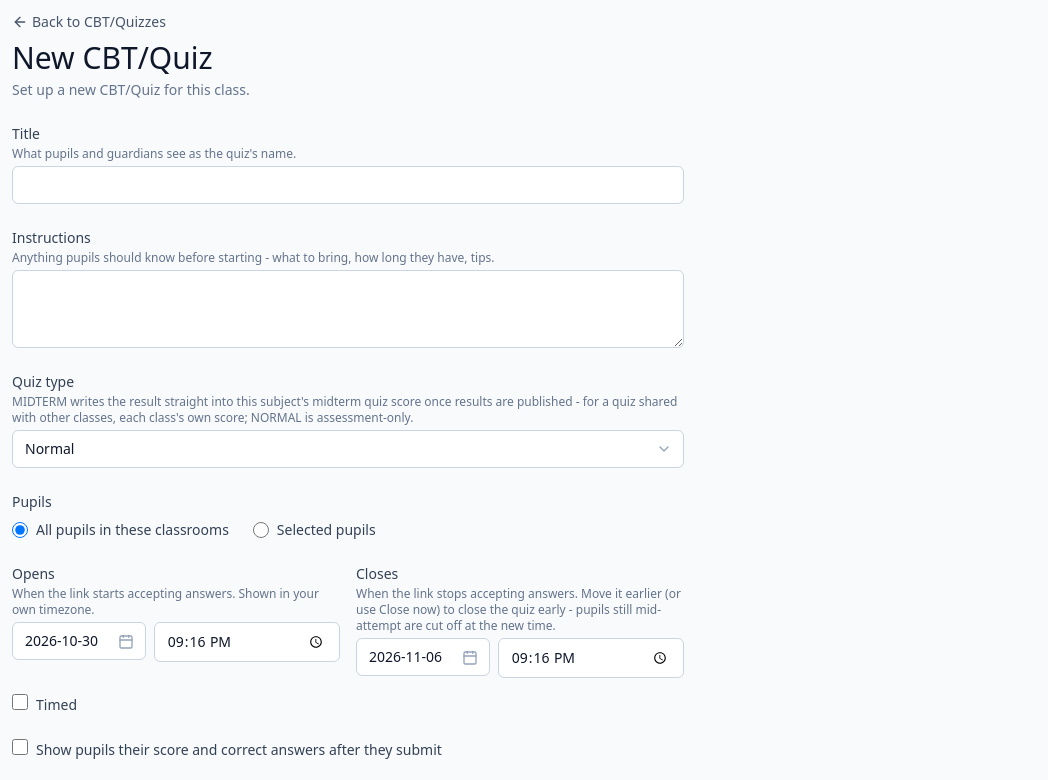
Scenario: TakeHomeQuizEditorPage - choosing students › refuses to save Selected students with nobody ticked
The width and height of the screenshot is (1048, 780).
Click the radio button labelled "Selected pupils".
click(261, 530)  # box 253,522 -> 269,538
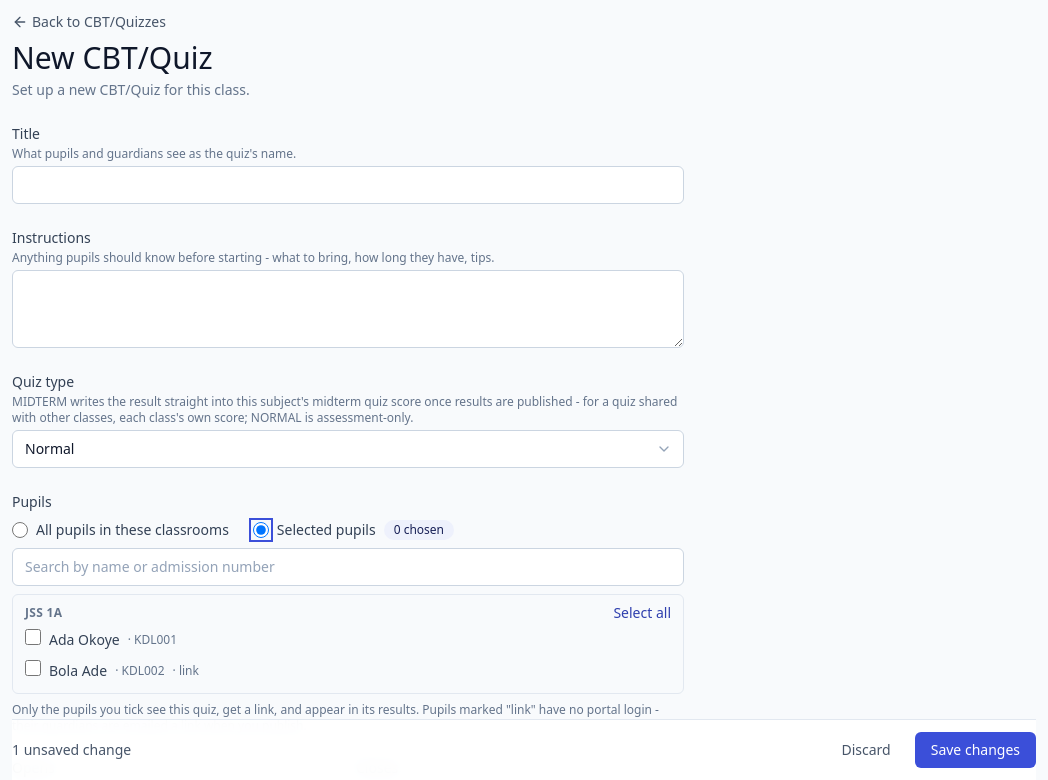
expect the checkbox labelled "Bola Ade · KDL002 · link" is shown: met, box 25,660 -> 41,676
Type "Retake" into the field labelled "Title".
click(348, 185); type("Retake")  # box 12,166 -> 684,204
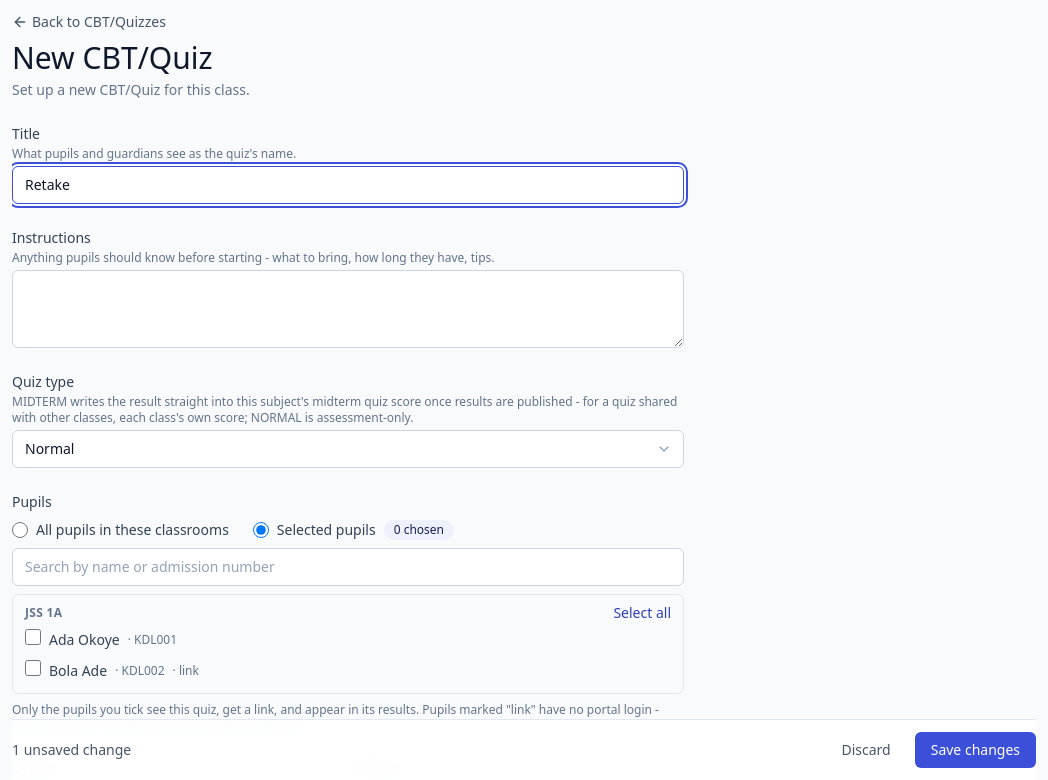
Click the button "Save changes".
click(975, 750)  # box 915,732 -> 1036,768
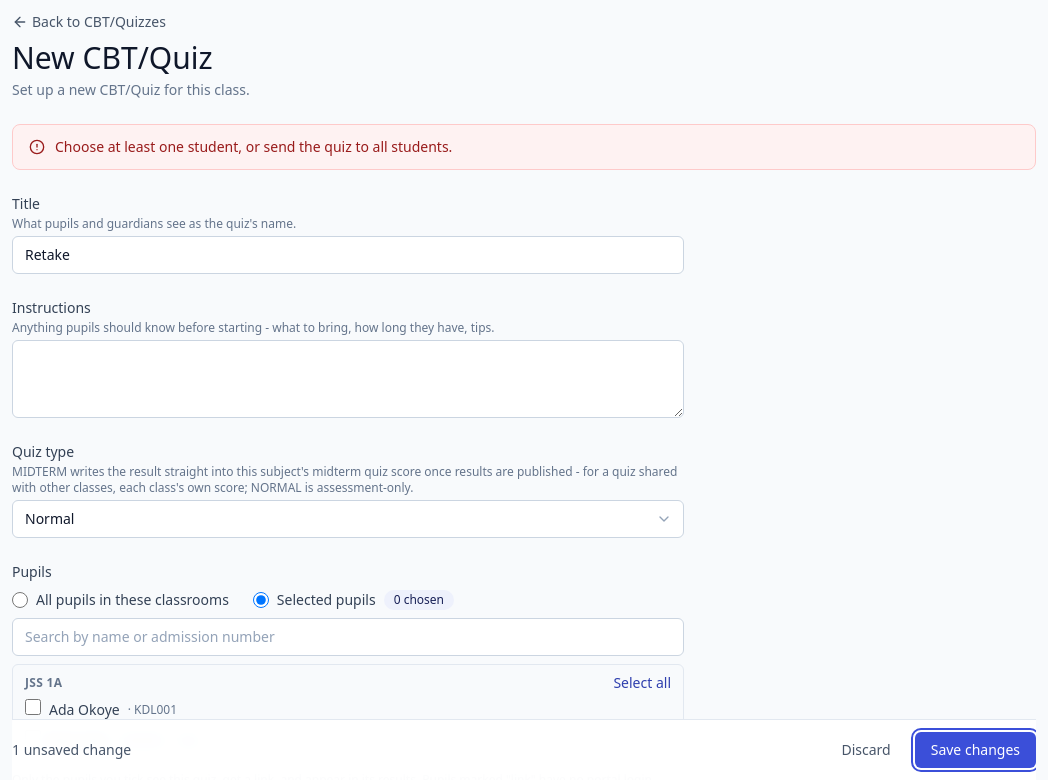
expect the text "Choose at least one student" is shown: met, box 55,137 -> 452,156
